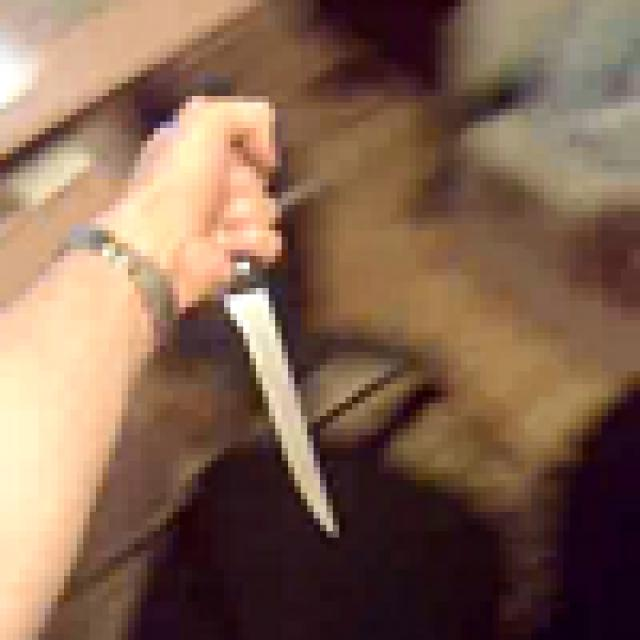Weapons: (211, 248, 342, 544)
